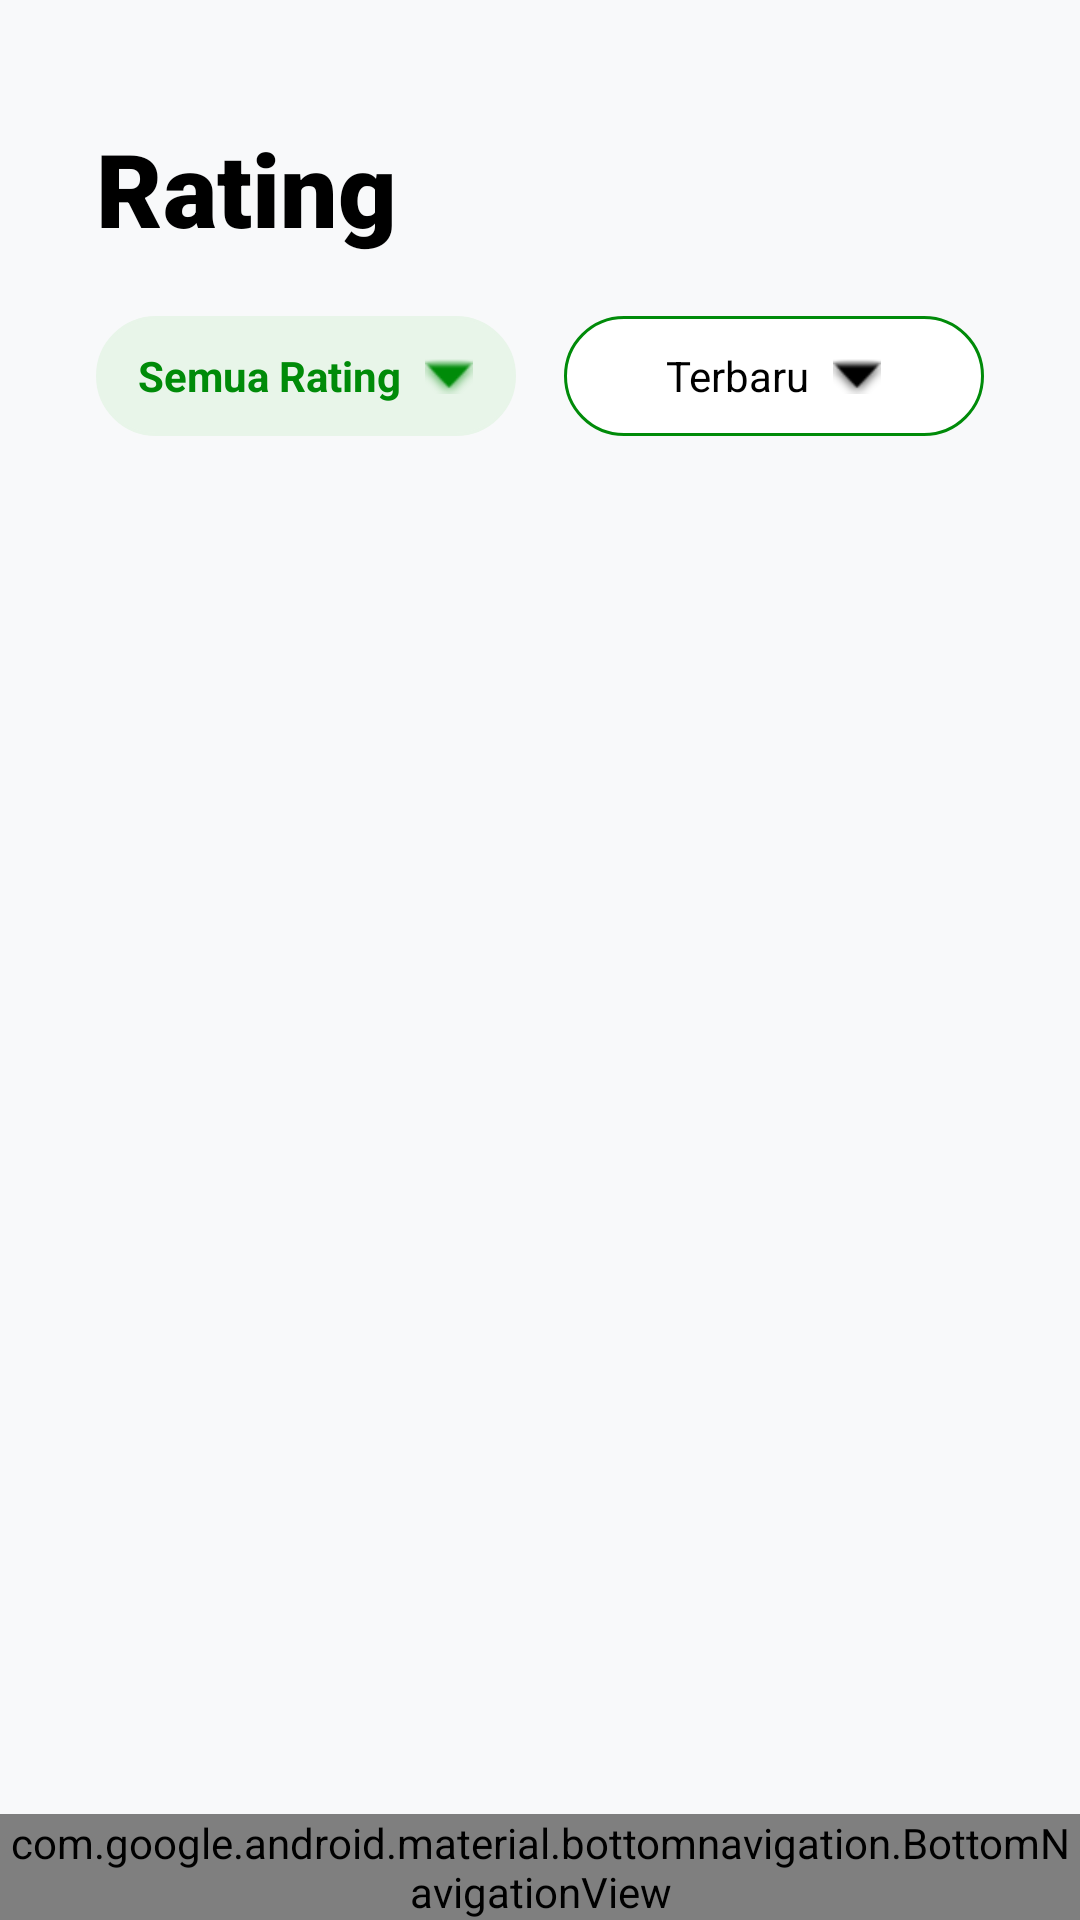

Screen size 1080w x 1920h. Icon name, then its center in pixels as (x=x, y=y):
arrow down float: (x=449, y=376), (x=857, y=376)
